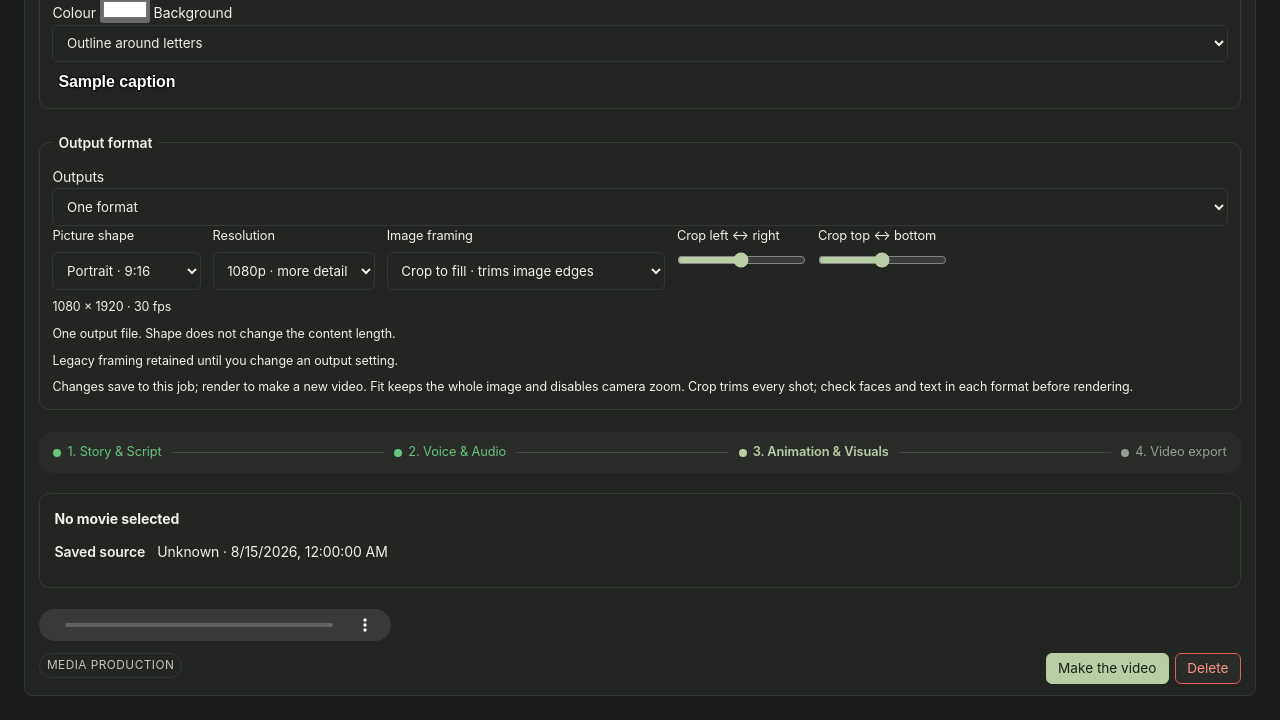
Test: a job that needs new scene images still asks about generator setup
(page scrolled)
What coordinates should you click on to do the following:
click the button "Make the video"
I would click on:
 (1107, 668)
Its box is [1046,653,1169,684].
(page scrolled)
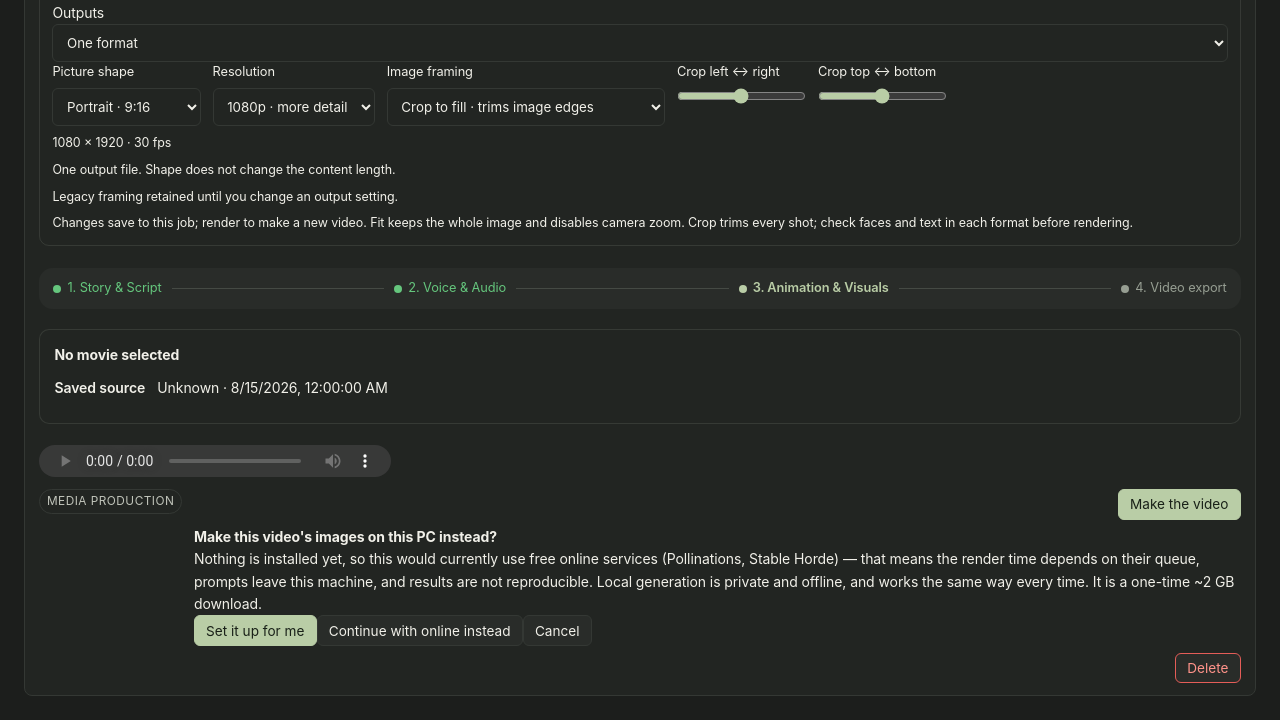
Expected: the dialog named "Choose where images are made" is shown, [194,526,1241,646]
